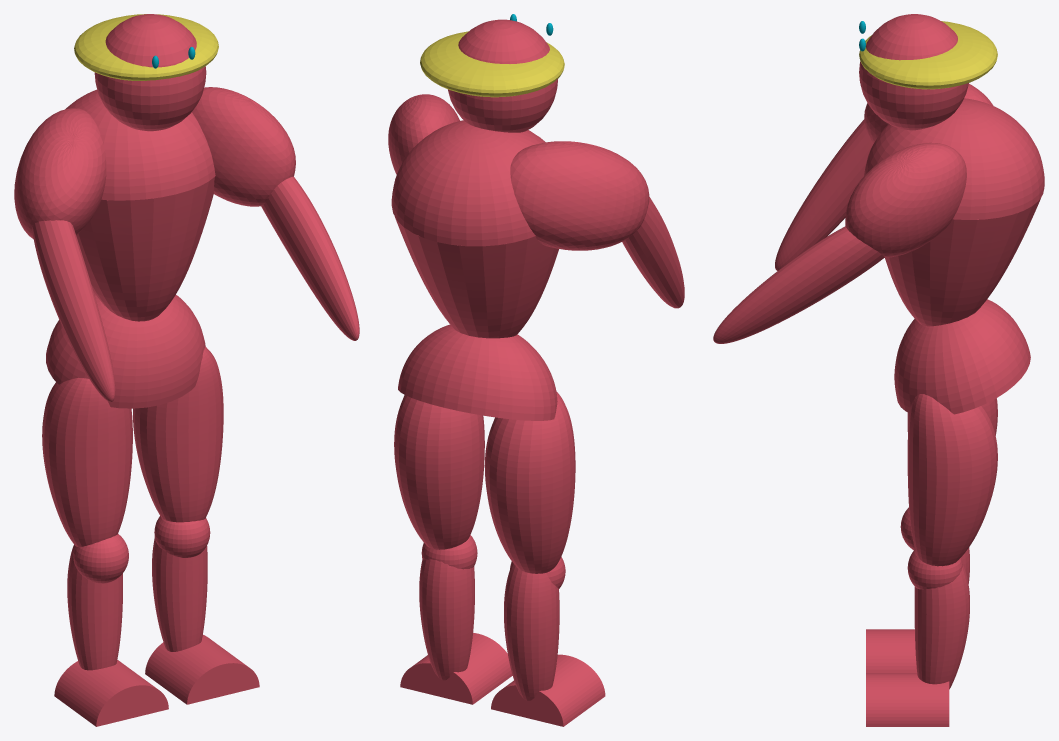
The model's file is arnoldhero.glb.
The picture shows the model from 3 angles, left to right: view 1: azimuth 30°, elevation 25°; view 2: azimuth 150°, elevation 25°; view 3: azimuth 270°, elevation 25°; orthographic projection.
Parts seen in each view (by area): view 1: Mesh_Mesh_head_geo.001_lambert2SG.001; view 2: Mesh_Mesh_head_geo.001_lambert2SG.001; view 3: Mesh_Mesh_head_geo.001_lambert2SG.001.
Boxes of the visible parts, x1,y1,x2,y2 form: Mesh_Mesh_head_geo.001_lambert2SG.001: [14, 14, 359, 726]; Mesh_Mesh_head_geo.001_lambert2SG.001: [388, 14, 684, 726]; Mesh_Mesh_head_geo.001_lambert2SG.001: [713, 14, 1044, 726].
Bounding box in the file's own units: 42 × 106 × 47.75.
